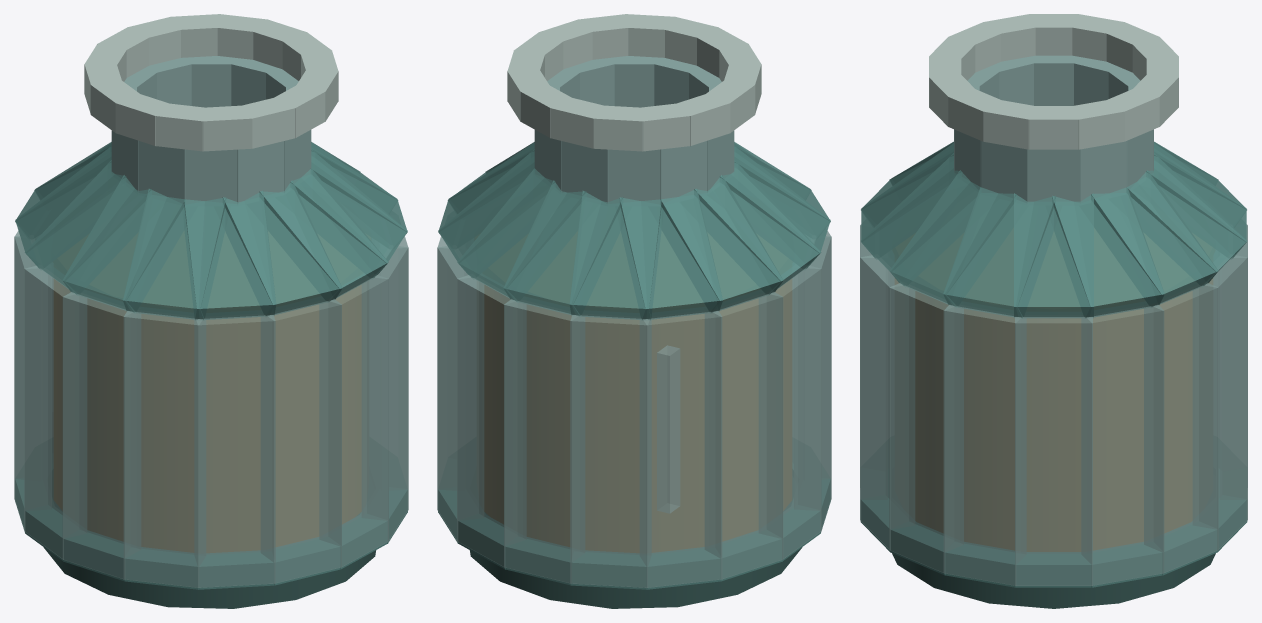
Rendered from CMU3DBottleTricordrazineCloud.glb.
The picture shows the model from 3 angles, left to right: view 1: azimuth 30°, elevation 25°; view 2: azimuth 150°, elevation 25°; view 3: azimuth 270°, elevation 25°; orthographic projection.
Visible parts, largest first — view 1: static liquid volume level 5, hollow bottle wall 11, hollow bottle wall 12, hollow bottle wall 13, hollow bottle wall 10, hollow bottle wall 14, hollow bottle wall 09, hollow bottle wall 15, inward glass shoulder 11, inward glass shoulder 13, inward glass shoulder 12, hollow bottle wall 08 (+45 smaller); view 2: static liquid volume level 5, hollow bottle wall 07, hollow bottle wall 06, hollow bottle wall 05, hollow bottle wall 08, hollow bottle wall 04, hollow bottle wall 09, hollow bottle wall 03, inward glass shoulder 07, inward glass shoulder 05, inward glass shoulder 06, hollow bottle wall 10 (+46 smaller); view 3: static liquid volume level 5, hollow bottle wall 02, hollow bottle wall 16, hollow bottle wall 01, hollow bottle wall 03, hollow bottle wall 15, hollow bottle wall 04, hollow bottle wall 14, inward glass shoulder 02, inward glass shoulder 16, inward glass shoulder 01, inward glass shoulder 03 (+43 smaller).
Part boxes in pixels (left/top/right/bottom): static liquid volume level 5: left=54, top=279, right=360, bottom=552; hollow bottle wall 11: left=123, top=310, right=205, bottom=587; hollow bottle wall 12: left=194, top=314, right=275, bottom=587; hollow bottle wall 13: left=261, top=299, right=341, bottom=583; hollow bottle wall 10: left=62, top=292, right=140, bottom=579; hollow bottle wall 14: left=319, top=275, right=388, bottom=567; hollow bottle wall 09: left=24, top=265, right=86, bottom=559; hollow bottle wall 15: left=362, top=246, right=408, bottom=541; inward glass shoulder 11: left=123, top=188, right=226, bottom=320; inward glass shoulder 13: left=222, top=180, right=342, bottom=316; inward glass shoulder 12: left=184, top=190, right=276, bottom=320; hollow bottle wall 08: left=14, top=236, right=51, bottom=531; static liquid volume level 5: left=485, top=279, right=791, bottom=552; hollow bottle wall 07: left=640, top=310, right=722, bottom=587; hollow bottle wall 06: left=570, top=314, right=651, bottom=587; hollow bottle wall 05: left=504, top=299, right=584, bottom=583; hollow bottle wall 08: left=705, top=292, right=783, bottom=579; hollow bottle wall 04: left=457, top=275, right=526, bottom=567; hollow bottle wall 09: left=759, top=265, right=821, bottom=559; hollow bottle wall 03: left=437, top=246, right=483, bottom=541; inward glass shoulder 07: left=619, top=188, right=722, bottom=320; inward glass shoulder 05: left=503, top=180, right=623, bottom=316; inward glass shoulder 06: left=569, top=190, right=661, bottom=320; hollow bottle wall 10: left=794, top=236, right=831, bottom=531; static liquid volume level 5: left=895, top=279, right=1212, bottom=551; hollow bottle wall 02: left=1081, top=305, right=1164, bottom=585; hollow bottle wall 16: left=943, top=305, right=1026, bottom=585; hollow bottle wall 01: left=1015, top=315, right=1092, bottom=585; hollow bottle wall 03: left=1144, top=283, right=1218, bottom=573; hollow bottle wall 15: left=889, top=283, right=963, bottom=573; hollow bottle wall 04: left=1193, top=255, right=1247, bottom=550; hollow bottle wall 14: left=860, top=255, right=914, bottom=550; inward glass shoulder 02: left=1052, top=187, right=1164, bottom=318; inward glass shoulder 16: left=943, top=187, right=1055, bottom=318; inward glass shoulder 01: left=1014, top=193, right=1093, bottom=317; inward glass shoulder 03: left=1091, top=170, right=1218, bottom=307.
Size of the model in its own units: 0.3384 by 0.453 by 0.3384.
